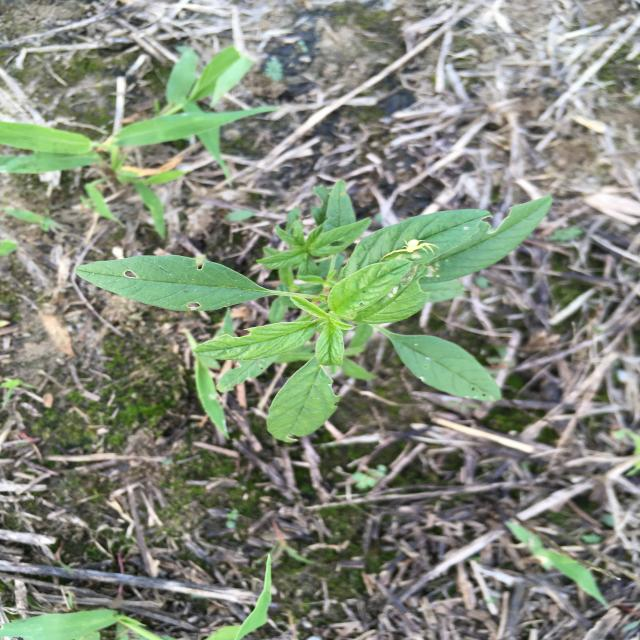Waterhemp: (72, 178, 556, 446)
